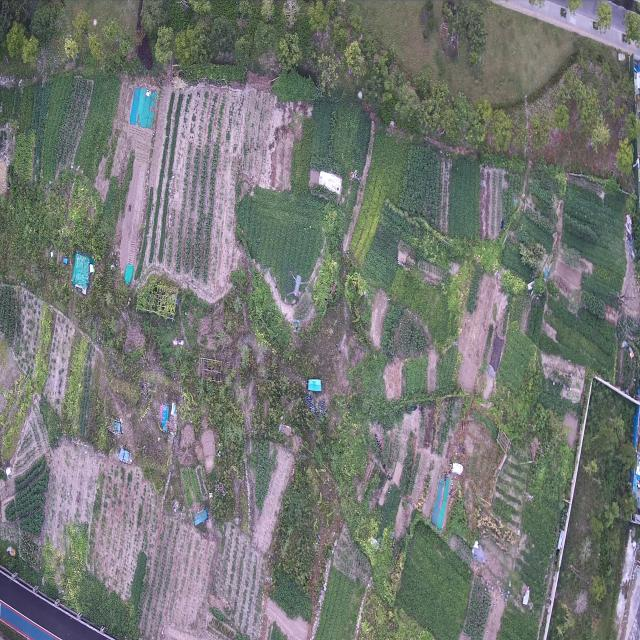UAV: (286, 269, 310, 307)
